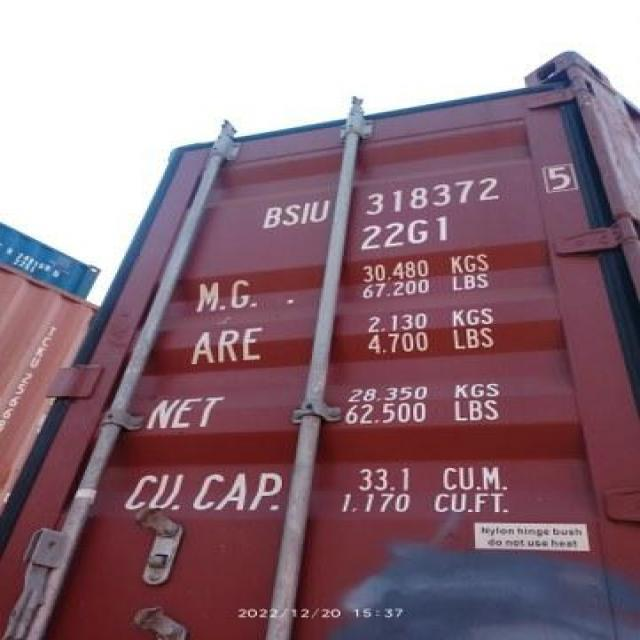container_number_h: (222, 151, 587, 251)
